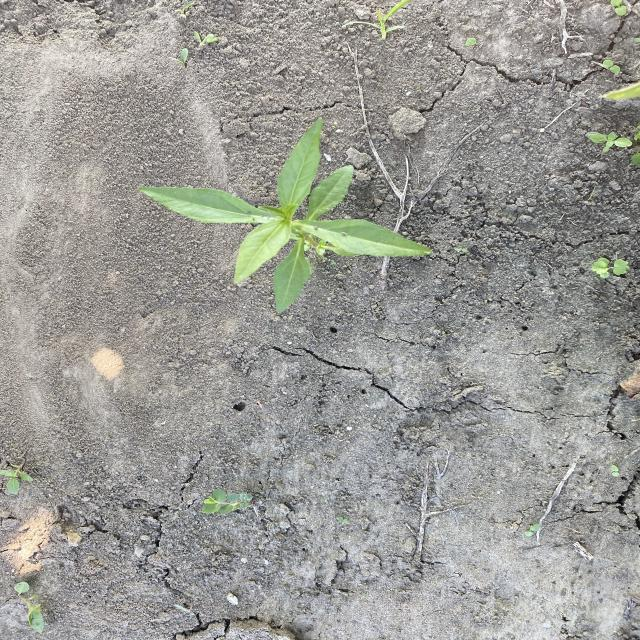Eclipta: (133, 116, 437, 314)
SpottedSpurge: (198, 486, 255, 516)
